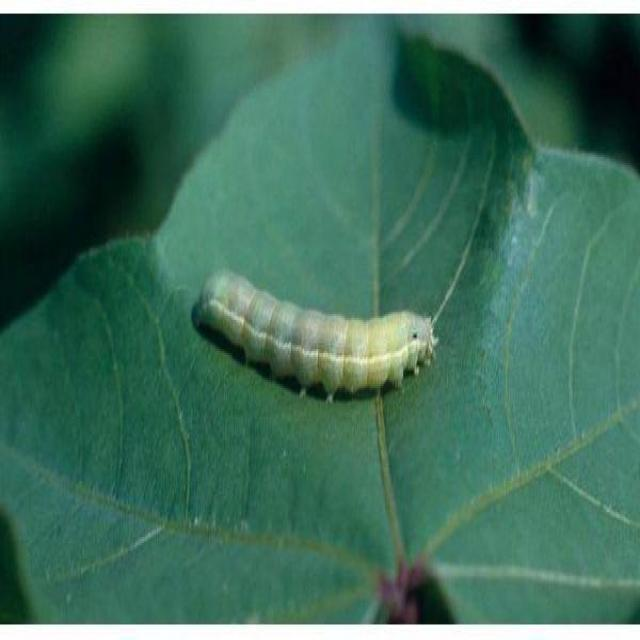BeetArmyWorm-Larva-: (182, 248, 448, 406)
